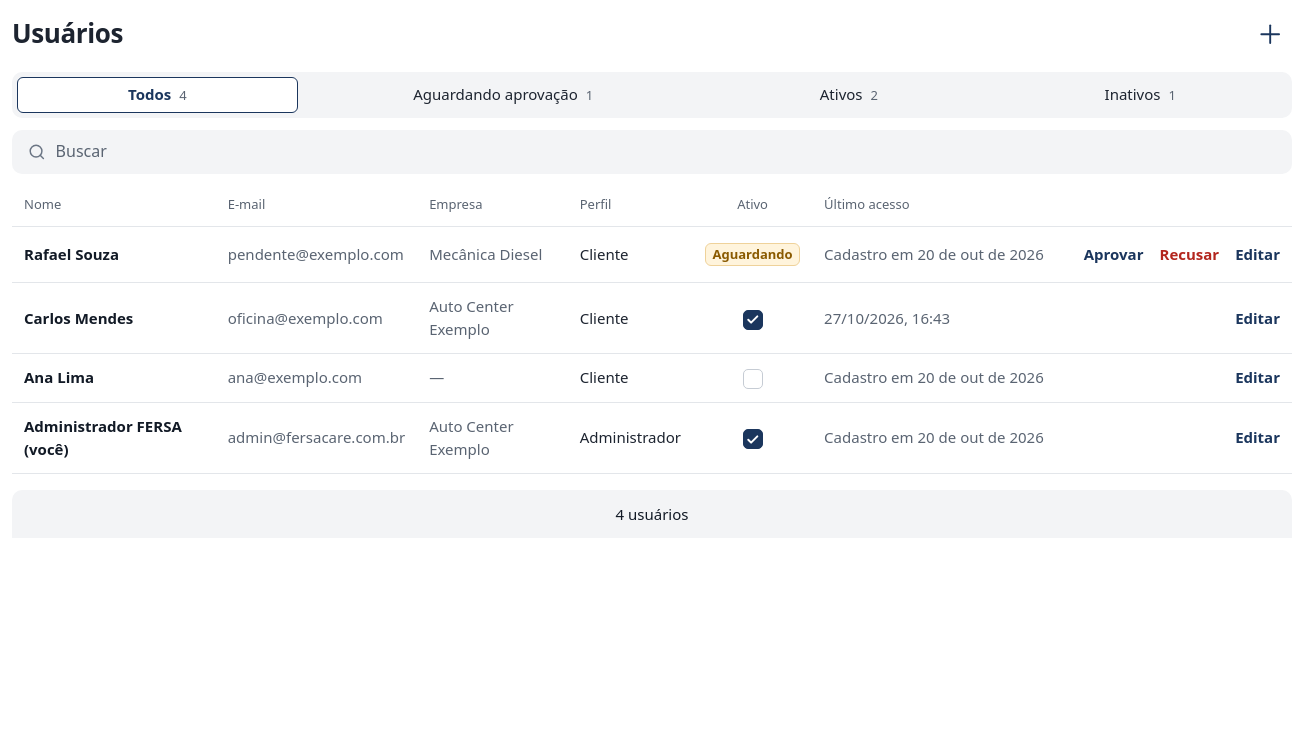
it: Lista de usuários › aprovar libera o acesso e avisa
The width and height of the screenshot is (1304, 732).
Click the button "Aprovar" at point(1114, 254), box 1084,239 -> 1144,270
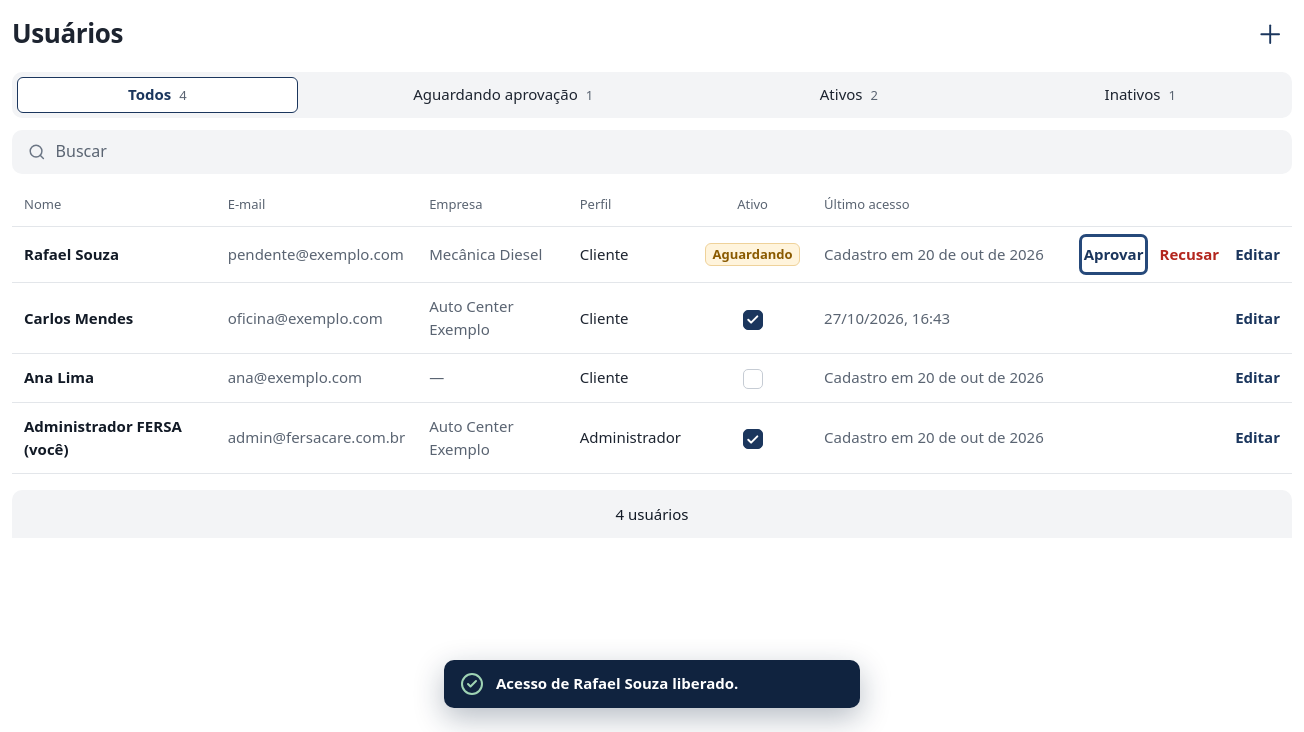
Expected: the text "Acesso de Rafael Souza liberado." is shown, 496,672 -> 738,696
